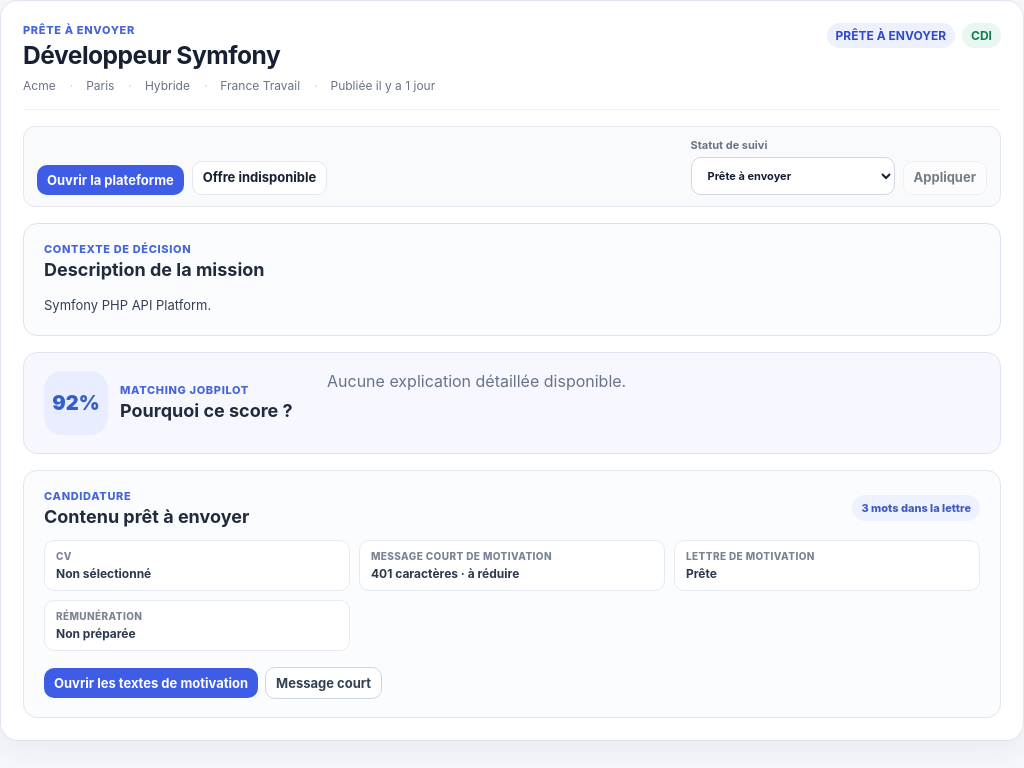
Scenario: Review Queue motivation message › shows an actionable over-limit warning inside the short-message tab instead of expanding the card
expect the text "401 caractères · à réduire" is shown: met, box 371,566 -> 519,581
expect the text "dépasse la limite choisie de 400" is not shown: met
Step 1. Click the button "Message court" → (324, 683), box 265,667 -> 382,699
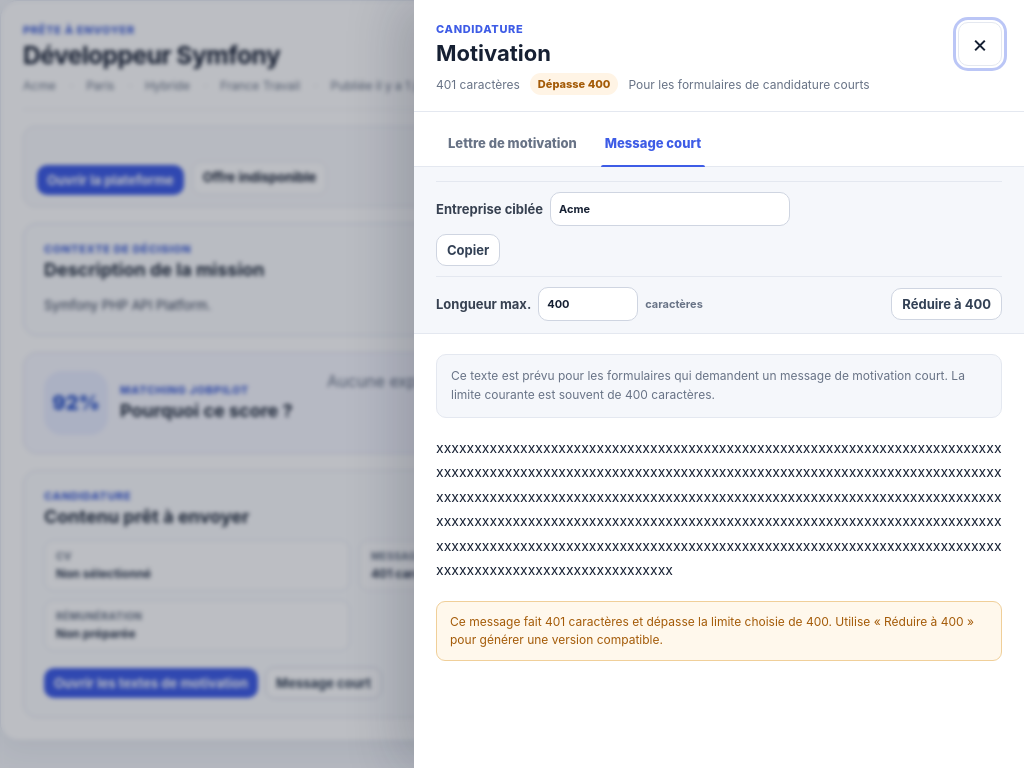
expect the text "Ce message fait 401 caractères et dépasse la limite choisie de 400" is shown: met, box 436,601 -> 1002,661
expect the button "Réduire à 400" is shown: met, box 891,288 -> 1002,320
